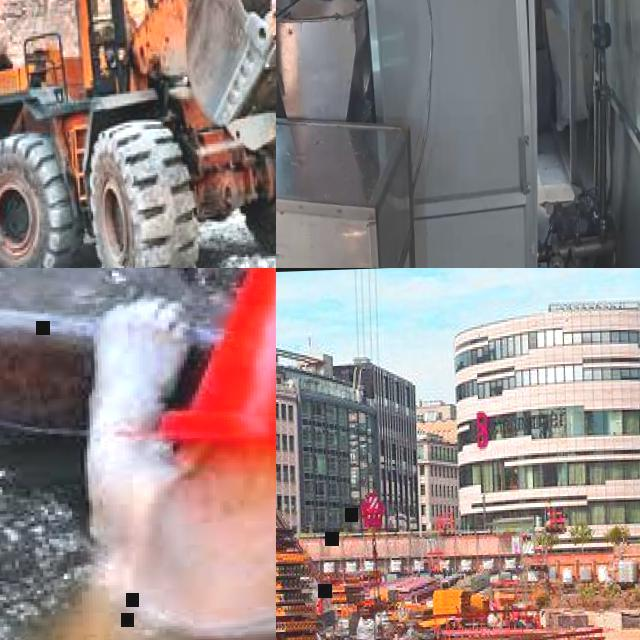helmet: (320, 590, 324, 596)
machinery: (0, 0, 276, 268)
person: (317, 591, 325, 615)
safety_cone: (163, 268, 276, 472)
vest: (318, 598, 324, 612)
